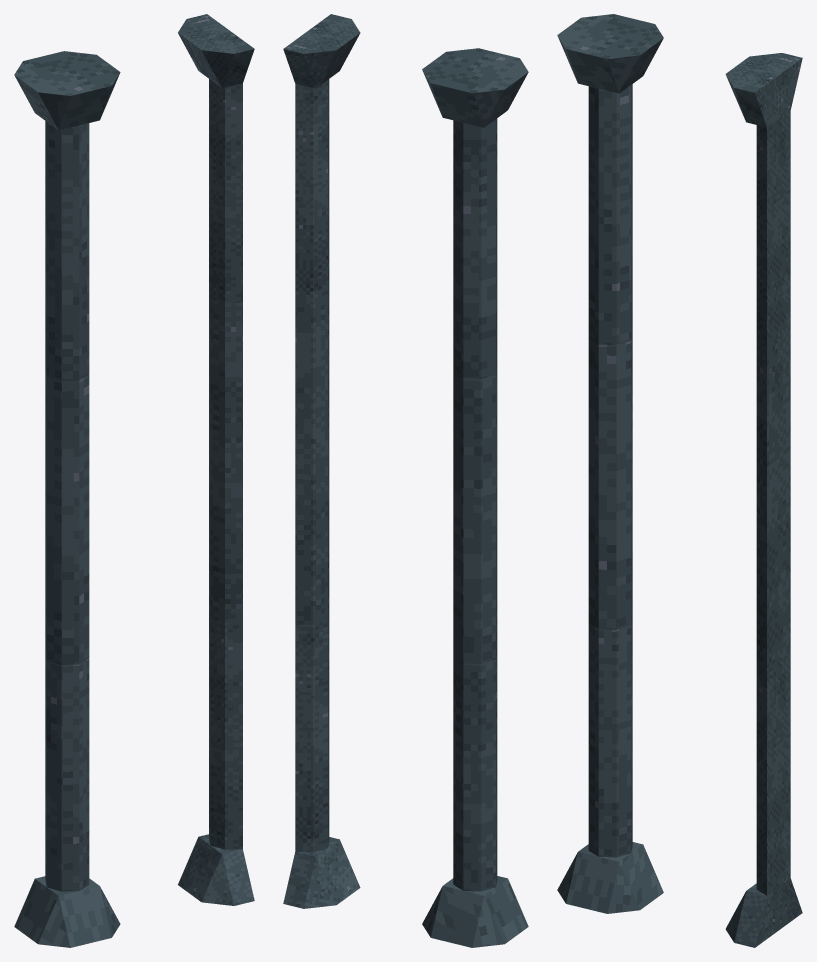
Rendered from Pillars.fbx.
3 views of the same model, side by side, from view 1: azimuth 30°, elevation 25°; view 2: azimuth 150°, elevation 25°; view 3: azimuth 330°, elevation 25° (orthographic).
Parts seen in each view (by area): view 1: TallPillar, HalfPillar; view 2: TallPillar, HalfPillar; view 3: TallPillar, HalfPillar.
Part boxes in pixels (<box>): TallPillar: <box>14,51,120,947</box>; HalfPillar: <box>178,14,254,905</box>; TallPillar: <box>422,48,528,947</box>; HalfPillar: <box>283,14,360,908</box>; TallPillar: <box>557,14,663,913</box>; HalfPillar: <box>725,53,802,947</box>.
Size of the model in its own units: 201 by 83.46 by 789.
1 material, 1 textured.
